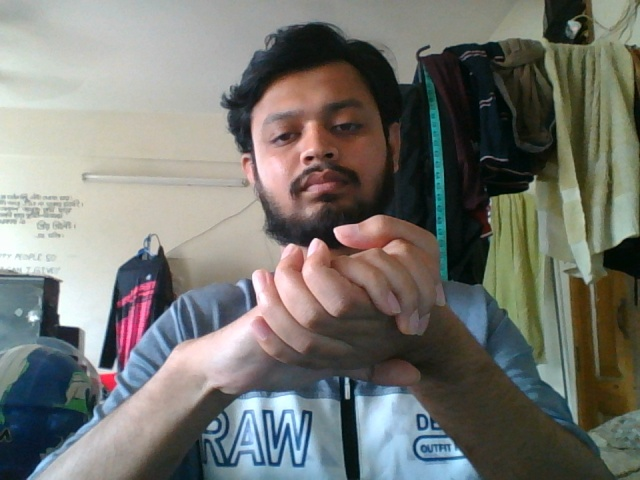bondhu: (109, 207, 550, 395)
